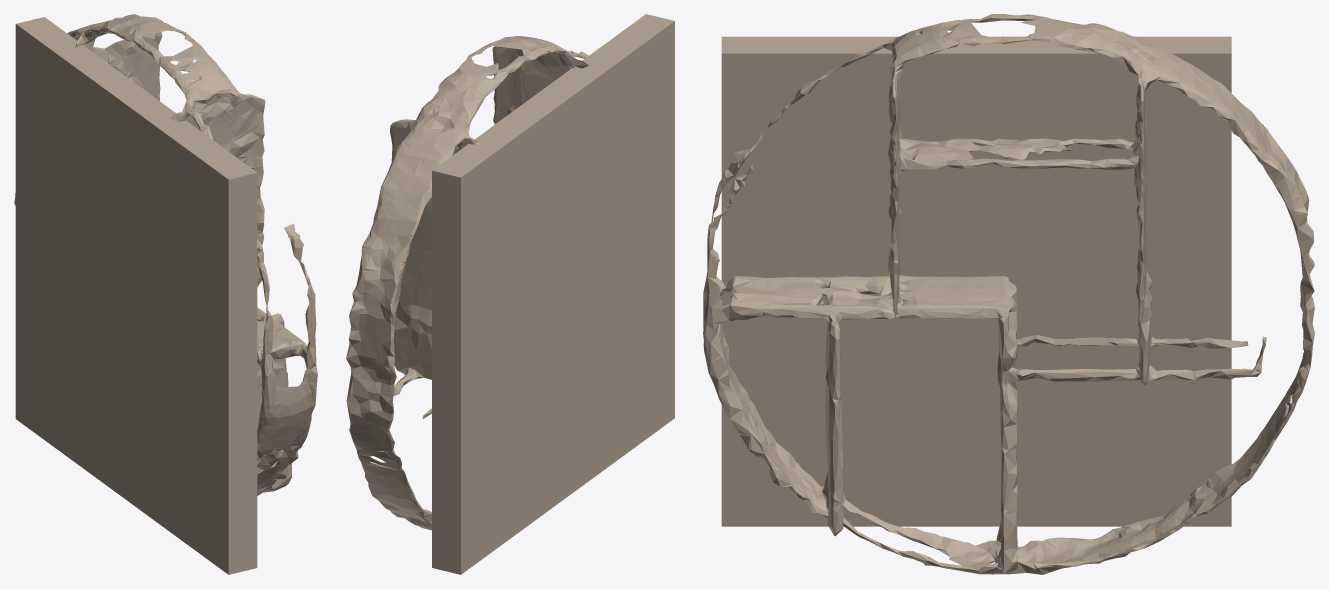
File: pod_instantmesh_bookshelf.glb
3 views of the same model, side by side, from view 1: azimuth 30°, elevation 25°; view 2: azimuth 150°, elevation 25°; view 3: azimuth 270°, elevation 25° (orthographic). The views are drawn at different scales.
Visible parts, largest first — view 1: world; view 2: world; view 3: world.
Boxes of the visible parts, box(x1,y1,x2,y2) form: world: box(14, 14, 317, 574); world: box(346, 14, 674, 574); world: box(703, 14, 1314, 574).
Bounding box in the file's own units: 0.5022 × 1.97 × 2.01.
